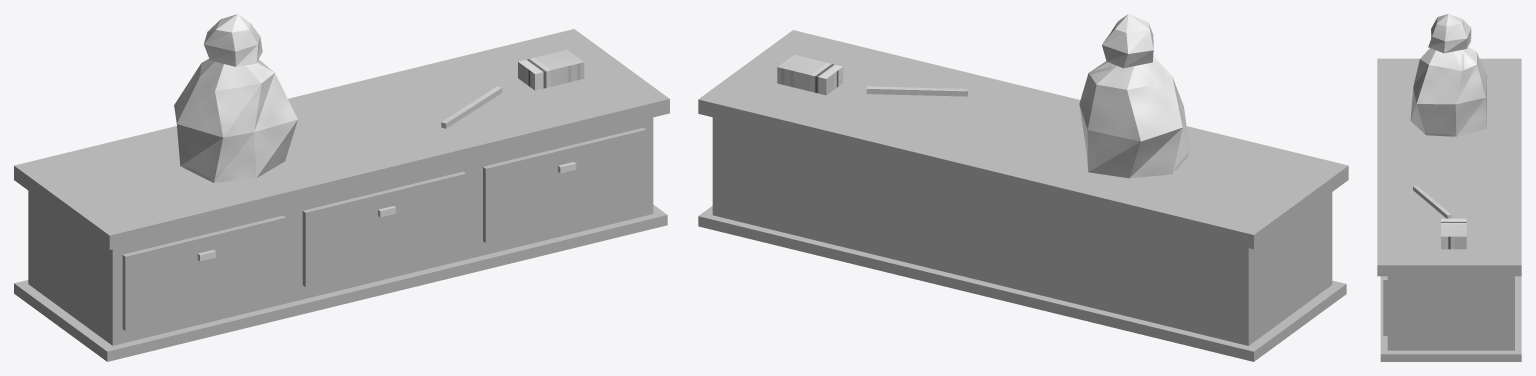
Rendered from bench_sculpting.obj.
The picture shows the model from 3 angles, left to right: view 1: azimuth 30°, elevation 25°; view 2: azimuth 150°, elevation 25°; view 3: azimuth 270°, elevation 25°; orthographic projection. The views are drawn at different scales.
Visible parts, largest first — view 1: bench_sculpting; view 2: bench_sculpting; view 3: bench_sculpting.
Boxes of the visible parts, <box> form: bench_sculpting: <box>14,14,669,361</box>; bench_sculpting: <box>698,14,1348,361</box>; bench_sculpting: <box>1377,14,1521,361</box>.
Size of the model in its own units: 2.84 by 1.32 by 0.84.
